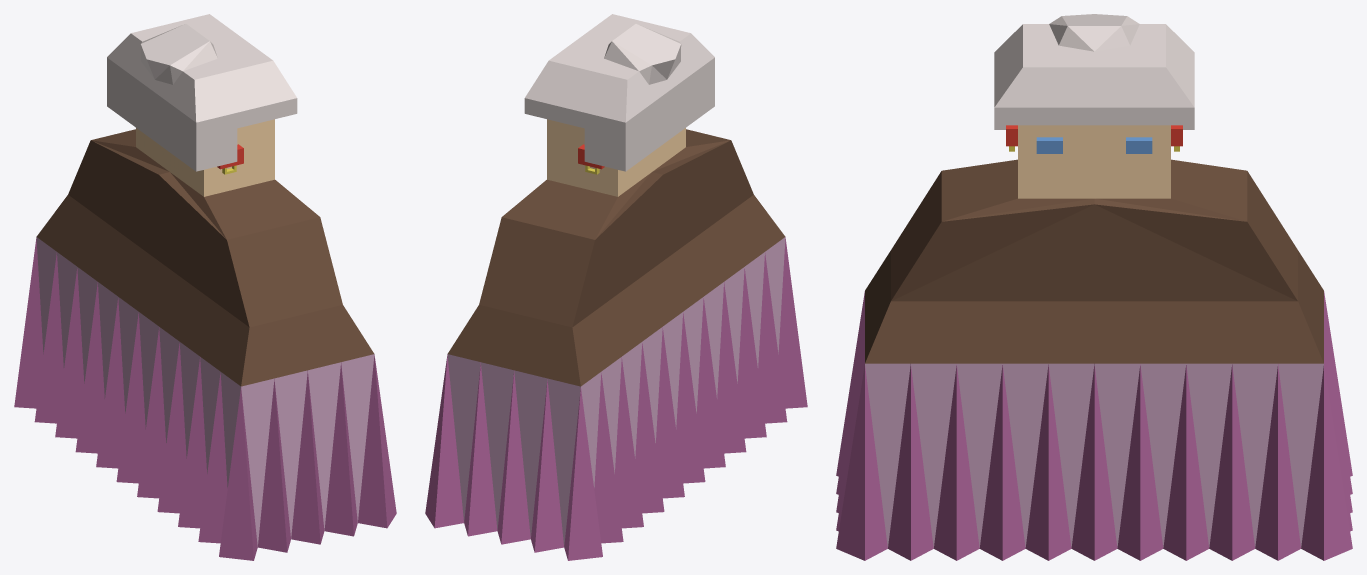
Rendered from esquivar-ancianas.fbx.
The picture shows the model from 3 angles, left to right: view 1: azimuth 30°, elevation 25°; view 2: azimuth 150°, elevation 25°; view 3: azimuth 270°, elevation 25°; orthographic projection. The views are drawn at different scales.
Parts seen in each view (by area): view 1: Component_1_1, Component_1_2; view 2: Component_1_2, Component_1_1; view 3: Component_1_1, Component_1_2.
Boxes of the visible parts, box(x1,y1,x2,y2) form: Component_1_1: box(116, 32, 396, 560); Component_1_2: box(14, 14, 240, 468); Component_1_2: box(425, 32, 705, 560); Component_1_1: box(581, 14, 807, 468); Component_1_1: box(836, 14, 1094, 560); Component_1_2: box(1094, 14, 1352, 560).
Size of the model in its own units: 80 by 185 by 179.
